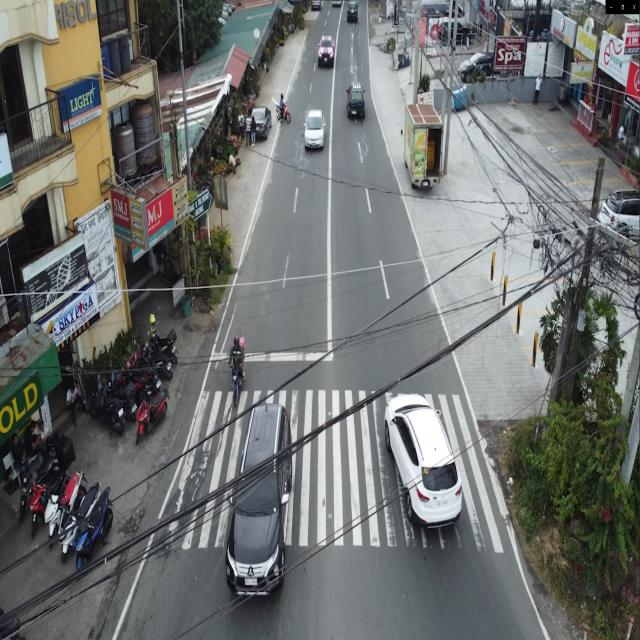car: (220, 400, 302, 608), (376, 383, 469, 545), (596, 182, 640, 244), (456, 48, 496, 90), (430, 14, 476, 50), (300, 103, 330, 157), (343, 78, 368, 124), (314, 30, 338, 74), (250, 100, 274, 143), (346, 0, 359, 22)
motorcycle: (25, 431, 79, 547), (45, 464, 89, 571), (71, 482, 119, 576), (56, 478, 102, 574), (132, 378, 174, 450), (223, 328, 249, 412), (273, 92, 294, 130)
person: (533, 67, 544, 114), (243, 110, 253, 149), (248, 112, 258, 148), (238, 108, 248, 141)
truck: (396, 98, 448, 201)
